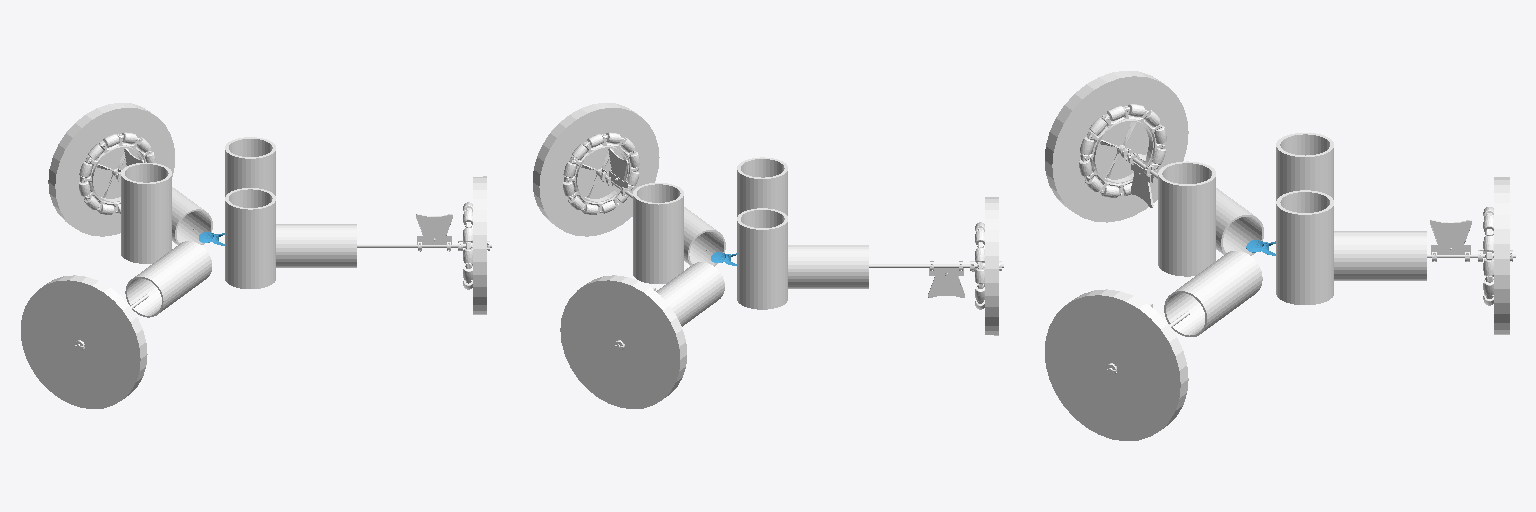
The robot description file, URDF, robot "underwater":
<?xml version="1.0"?>
<robot name="underwater"> 

    <!-- * * * Color Definitions * * * -->

    <material name="white">
        <color rgba="1 1 1 1"/>
    </material>

    <material name="green2">
        <color rgba="0.8 0.9 0.8 0.9"/>
    </material> 

    <material name="red">
        <color rgba="0.8 0 0 1"/>
    </material>

    <material name="gray">
        <color rgba="0.5 0.5 0.5 0.9"/>
    </material>

    <material name="transparent">
        <color rgba="1 1 1 0.4"/>
    </material>

    <material name="full_transparent">
        <color rgba="1 1 1 0"/>
    </material>

    <!-- * * * Link Definitions * * * -->

    <!-- mesh files -->
    <link name="base_link">
        <inertial>
            <origin xyz="0 0 0" rpy="0 0 0"/>
            <mass value="0.607" />
            <inertia ixx="0.0002835" ixy="0.0" ixz="0.0" iyy="0.0002835" iyz="0.0" izz="0.000324"/>
        </inertial>

        <collision>
            <origin xyz="0 0 0" rpy="0 0 0"/>
            <geometry>
                <cylinder radius="0.6" length="0.09"/>
            </geometry>
        </collision>

        <visual>
            <origin rpy="0 0 0" xyz="0 0 -0.2"/>
            <geometry>
                <mesh filename="package://underwater_sim/models/meshes/MainBody.dae" scale="0.0025 0.0025 0.0025"/>
            </geometry>
            <material name="white"/>
        </visual>
    </link> 

    <link name="center_link">
        <inertial>
            <origin xyz="0 0 0" rpy="0 0 0"/>
            <mass value="0.210" />
            <inertia ixx="0.0002835" ixy="0.0" ixz="0.0" iyy="0.0002835" iyz="0.0" izz="0.000324"/>
        </inertial>
        <visual>
            <origin rpy="0 0 0" xyz="-0.076 -0.080 -0.035"/>
            <geometry>
                <mesh filename="package://underwater_sim/models/meshes/CentralPropeller.dae" scale="0.0025 0.0025 0.0025"/>
            </geometry>
            <material name="black"/>
        </visual>
    </link> 


    <link name="shaft1_link">
        <inertial>
            <origin xyz="0 0 0" rpy="0 0 0"/>
            <mass value="0.18" />
            <inertia ixx="0.0002835" ixy="0.0" ixz="0.0" iyy="0.0002835" iyz="0.0" izz="0.000324"/>
        </inertial>
        <collision>
            <origin rpy="0 0 1.5078" xyz="0 .3464 .0"/>
            <geometry>
                <cylinder radius="0.02" length="0.4"/>
            </geometry>
        </collision>
        <visual>
            <origin rpy="0 0 3.1415" xyz="0 0 -0.085"/>
            <geometry>
                <mesh filename="package://underwater_sim/models/meshes/Shaft.dae" scale="0.0025 0.0025 0.0025"/>
            </geometry>
            <material name="white"/>
        </visual>
    </link> 

    <link name="shaft2_link">
        <inertial>
            <origin xyz="0 0 0" rpy="0 0 0"/>
            <mass value="0.18" />
            <inertia ixx="0.0002835" ixy="0.0" ixz="0.0" iyy="0.0002835" iyz="0.0" izz="0.000324"/>
        </inertial>
        <collision>
            <origin rpy="1.5708 0 0" xyz="0 .3464 0"/>
            <geometry>
                <cylinder radius="0.02" length="0.4"/>
            </geometry>
        </collision>

        <visual>
            <origin rpy="3.1415 0 0" xyz="0 0 0.085"/>
            <geometry>
                <mesh filename="package://underwater_sim/models/meshes/Shaft.dae" scale="0.0025 0.0025 0.0025"/>
            </geometry>
            <material name="white"/>
        </visual>
    </link>  

    <link name="shaft3_link">
        <inertial>
            <origin xyz="3.1415 0 0" rpy="0 0 0"/>
            <mass value="0.18" />
            <inertia ixx="0.0002835" ixy="0.0" ixz="0.0" iyy="0.0002835" iyz="0.0" izz="0.000324"/>
        </inertial>

        <collision>
            <origin rpy="0 0 0" xyz="0 .3464 .0"/>
            <geometry>
                <cylinder radius="0.02" length="0.4"/>
            </geometry>
        </collision>

        <visual>
            <origin rpy="0 0 3.1415" xyz="0 0 -0.085"/>
            <geometry>
                <mesh filename="package://underwater_sim/models/meshes/Shaft.dae" scale="0.0025 0.0025 0.0025"/>
            </geometry>
            <material name="white"/>
        </visual>
    </link> 

    <link name="cylinder1_link">
        <inertial>
            <origin xyz="3.1415 0 0" rpy="0 0 0"/>
            <mass value="0.18" />
            <inertia ixx="0.0002835" ixy="0.0" ixz="0.0" iyy="0.0002835" iyz="0.0" izz="0.000324"/>
        </inertial>

        <collision>
            <origin rpy="0 0 0" xyz="0 .3464 .0"/>
            <geometry>
                <cylinder radius="0.02" length="0.4"/>
            </geometry>
        </collision>

        <visual>
            <origin rpy="0 0 3.1415" xyz="0.26 .15 0.01"/>
            <geometry>
                <mesh filename="package://underwater_sim/models/meshes/Cylinder.dae" scale="0.0025 0.0025 0.0025"/>
            </geometry>
            <material name="transparent"/>
        </visual>
    </link> 

    <link name="cylinder2_link">
        <inertial>
            <origin xyz="3.1415 0 0" rpy="0 0 0"/>
            <mass value="0.18" />
            <inertia ixx="0.0002835" ixy="0.0" ixz="0.0" iyy="0.0002835" iyz="0.0" izz="0.000324"/>
        </inertial>

        <collision>
            <origin rpy="0 0 0" xyz="0 .3464 .0"/>
            <geometry>
                <cylinder radius="0.02" length="0.4"/>
            </geometry>
        </collision>

        <visual>
            <origin rpy="0 0 3.1415" xyz="-0.26 .15 0.01"/>
            <geometry>
                <mesh filename="package://underwater_sim/models/meshes/Cylinder.dae" scale="0.0025 0.0025 0.0025"/>
            </geometry>
            <material name="transparent"/>
        </visual>
    </link>

    <link name="cylinder3_link">
        <inertial>
            <origin xyz="3.1415 0 0" rpy="0 0 0"/>
            <mass value="0.18" />
            <inertia ixx="0.0002835" ixy="0.0" ixz="0.0" iyy="0.0002835" iyz="0.0" izz="0.000324"/>
        </inertial>

        <collision>
            <origin rpy="0 0 0" xyz="0 .3464 .0"/>
            <geometry>
                <cylinder radius="0.02" length="0.4"/>
            </geometry>
        </collision>

        <visual>
            <origin rpy="0 0 3.1415" xyz="0 -0.3 0.01"/>
            <geometry>
                <mesh filename="package://underwater_sim/models/meshes/Cylinder.dae" scale="0.0025 0.0025 0.0025"/>
            </geometry>
            <material name="transparent"/>
        </visual>
    </link> 

    <link name="motorcylinder1_link">
        <inertial>
            <origin xyz="3.1415 0 0" rpy="0 0 0"/>
            <mass value="0.18" />
            <inertia ixx="0.0002835" ixy="0.0" ixz="0.0" iyy="0.0002835" iyz="0.0" izz="0.000324"/>
        </inertial>

        <collision>
            <origin rpy="0 0 0" xyz="0 .3464 .0"/>
            <geometry>
                <cylinder radius="0.02" length="0.4"/>
            </geometry>
        </collision>

        <visual>
            <origin rpy="0 0 3.1415" xyz="0 0.19 0.045"/>
            <geometry>
                <mesh filename="package://underwater_sim/models/meshes/TubeMotor.dae" scale="0.0025 0.0025 0.0025"/>
            </geometry>
            <material name="transparent"/>
        </visual>
    </link> 

    <link name="motorcylinder2_link">
        <inertial>
            <origin xyz="3.1415 0 0" rpy="0 0 0"/>
            <mass value="0.18" />
            <inertia ixx="0.0002835" ixy="0.0" ixz="0.0" iyy="0.0002835" iyz="0.0" izz="0.000324"/>
        </inertial>

        <collision>
            <origin rpy="0 0 0" xyz="0 .3464 .0"/>
            <geometry>
                <cylinder radius="0.02" length="0.4"/>
            </geometry>
        </collision>

        <visual>
            <origin rpy="0 0 1.0471975512" xyz="0.16 -0.095 0.045"/>
            <geometry>
                <mesh filename="package://underwater_sim/models/meshes/TubeMotor.dae" scale="0.0025 0.0025 0.0025"/>
            </geometry>
            <material name="transparent"/>
        </visual>
    </link> 

    <link name="motorcylinder3_link">
        <inertial>
            <origin xyz="3.1415 0 0" rpy="0 0 0"/>
            <mass value="0.18" />
            <inertia ixx="0.0002835" ixy="0.0" ixz="0.0" iyy="0.0002835" iyz="0.0" izz="0.000324"/>
        </inertial>

        <collision>
            <origin rpy="0 0 0" xyz="0 .3464 .0"/>
            <geometry>
                <cylinder radius="0.02" length="0.4"/>
            </geometry>
        </collision>

        <visual>
            <origin rpy="0 0 2.094395" xyz="-0.53 -0.3 0.045"/>
            <geometry>
                <mesh filename="package://underwater_sim/models/meshes/TubeMotor.dae" scale="0.0025 0.0025 0.0025"/>
            </geometry>
            <material name="transparent"/>
        </visual>
    </link> 

    <!-- naive geometry-->
    <!-- 
    <link name="base_link">
        <inertial>
            <origin xyz="0 0 0" rpy="0 0 0"/>
            <mass value="0.607" />
            <inertia ixx="0.0002835" ixy="0.0" ixz="0.0" iyy="0.0002835" iyz="0.0" izz="0.000324"/>
        </inertial>

        <collision>
            <origin xyz="0 0 0" rpy="0 0 0"/>
            <geometry>
                <cylinder radius="0.44056" length="0.006"/>
            </geometry>
        </collision>

        <visual>
            <origin rpy="0 0 0" xyz="0 0 0"/>
            <geometry>
                <cylinder radius="0.44056" length="0.006"/>
            </geometry>
            <material name="white"/>
        </visual>
    </link> 

    <link name="center_link">
        <inertial>
            <origin xyz="0 0 0" rpy="0 0 0"/>
            <mass value="0.210" />
            <inertia ixx="0.0002835" ixy="0.0" ixz="0.0" iyy="0.0002835" iyz="0.0" izz="0.000324"/>
        </inertial>

        <visual>
            <origin xyz="0 0 0" rpy="0 0 0"/>
            <geometry>
                <cylinder radius="0.03" length="0.06"/>
            </geometry>
            <material name="black"/>
        </visual>
    </link> 

    <link name="shaft1_link">
        <inertial>
            <origin rpy="0 0 0" xyz="0 .3464 .0"/>
            <mass value="0.18" />
            <inertia ixx="0.0002835" ixy="0.0" ixz="0.0" iyy="0.0002835" iyz="0.0" izz="0.000324"/>
        </inertial>

        <collision>
            <origin rpy="1.5708 0 0" xyz="0 .3464 .0"/>
            <geometry>
                <cylinder radius="0.05" length="0.4"/>
            </geometry>
        </collision>

        <visual>
            <origin rpy="1.5708 0 0" xyz="0 .3464 .0"/>
            <geometry>
                <cylinder radius="0.05" length="0.4"/>
            </geometry>
            <material name="white"/>
        </visual>
    </link> 

    <link name="shaft2_link">
        <inertial>
            <origin xyz="0 0 0" rpy="0 0 0"/>
            <mass value="0.18" />
            <inertia ixx="0.0002835" ixy="0.0" ixz="0.0" iyy="0.0002835" iyz="0.0" izz="0.000324"/>
        </inertial>

        <collision>
            <origin rpy="1.5708 0 0" xyz="0 .3464 0"/>
            <geometry>
                <cylinder radius="0.05" length="0.4"/>
            </geometry>
        </collision>

        <visual>
            <origin rpy="1.5708 0 0" xyz="0 .3464 0"/>
            <geometry>
                <cylinder radius="0.05" length="0.4"/>
            </geometry>
            <material name="white"/>
        </visual>
    </link>  


    <link name="shaft3_link">
        <inertial>
            <origin rpy="0 0 1.5078" xyz="0 .3464 .0"/>
            <mass value="0.18" />
            <inertia ixx="0.0002835" ixy="0.0" ixz="0.0" iyy="0.0002835" iyz="0.0" izz="0.000324"/>
        </inertial>

        <collision>
            <origin rpy="1.5078 0 0" xyz="0 .3464 .0"/>
            <geometry>
                <cylinder radius="0.02" length="0.4"/>
            </geometry>
        </collision>

        <visual>
            <origin rpy="1.5078 0 0" xyz="0 .3464 .0"/>
            <geometry>
                <cylinder radius="0.05" length="0.4"/>
            </geometry>
            <material name="white"/>
        </visual>
    </link> 
    -->

    <link name="wheel1_link">
        <inertial>
            <origin xyz="0 0 0" rpy="0 0 0"/>
            <mass value="0.361" />
            <inertia ixx="0.0002835" ixy="0.0" ixz="0.0" iyy="0.0002835" iyz="0.0" izz="0.000324"/>
        </inertial>
        <collision>
            <origin rpy="1.5708 0 0" xyz="0 .54 0"/>
            <geometry>
                <cylinder radius="0.3" length="0.06"/>
            </geometry>
        </collision>
        <visual>
            <origin rpy="1.5708 0 0" xyz="0 .54 0"/>
            <geometry>
                <cylinder radius="0.3" length="0.06"/>
            </geometry>
            <material name="full_transparent"/>
        </visual>
    </link>

    <link name="wheel2_link">
        <inertial>
            <origin xyz="0 0 0" rpy="0 0 0"/>
            <mass value="0.361" />
            <inertia ixx="0.0002835" ixy="0.0" ixz="0.0" iyy="0.0002835" iyz="0.0" izz="0.000324"/>
        </inertial>
        <collision>
            <origin rpy="1.5708 0 0" xyz="0 .54 0"/>
            <geometry>
                <cylinder radius="0.3" length="0.06"/>
            </geometry>
        </collision>
        <visual>
            <origin rpy="1.5708 0 0" xyz="0 .54 0"/>
            <geometry>
                <cylinder radius="0.3" length="0.06"/>
            </geometry>
            <material name="full_transparent"/>
        </visual>
    </link>


    <link name="wheel3_link">
        <inertial>
            <origin xyz="0 0 0" rpy="0 0 0"/>
            <mass value="0.361" />
            <inertia ixx="0.0002835" ixy="0.0" ixz="0.0" iyy="0.0002835" iyz="0.0" izz="0.000324"/>
        </inertial>
        <collision>
            <origin rpy="1.5708 0 0" xyz="0 .54 0"/>
            <geometry>
                <cylinder radius="0.3" length="0.06"/>
            </geometry>
        </collision>
        <visual>
            <origin rpy="1.5708 0 0" xyz="0 .54 0"/>
            <geometry>
                <cylinder radius="0.3" length="0.06"/>
            </geometry>
            <material name="full_transparent"/>
        </visual>
    </link> 
    
    <!-- * * * Joint Definitions * * * -->

    <joint name="center_motor" type="continuous">
        <parent link="base_link"/>
        <child link="center_link"/>
        <origin xyz="0.000 0 0.0005" rpy="0 0 0"/>
        <limit lower="-1" upper="1" effort="0.1" velocity="0.05"/>
        <axis xyz="0 0 1"/>
    </joint>

    <joint name="motor1" type="continuous">
        <parent link="base_link"/>
        <child link="shaft1_link"/>
        <origin xyz="0 0.36 0.045" rpy="0 0 0"/>
        <limit lower="-1" upper="1" effort="0.1" velocity="0.05"/>
        <axis xyz="0 1.5708 0"/>
    </joint>  

    <joint name="motor2" type="continuous">
        <parent link="base_link"/>
        <child link="shaft2_link"/>
        <origin xyz="-0.52 -0.3 0.045" rpy="0 0 2.094"/>
        <limit lower="-1" upper="1" effort="0.1" velocity="0.05"/>
        <axis xyz="0 1 0 "/>
    </joint> 
  
    <joint name="motor3" type="continuous">
        <parent link="base_link"/>
        <child link="shaft3_link"/>
        <origin xyz="0.52 -0.3 0.045" rpy="0 0 -2.094"/>
        <limit lower="-1" upper="1" effort="0.1" velocity="0.05"/>
        <axis xyz="0 1 0"/>
    </joint>  

    <joint name="wheel1_joint" type="fixed">
        <parent link="shaft1_link"/>
        <child link="wheel1_link"/>
        <origin xyz="0 0 0" rpy="0 0 0"/>
        <limit lower="-1" upper="1" effort="0.1" velocity="0.05"/>
        <axis xyz="0 1 0"/>
   </joint>

         
    <joint name="wheel2_joint" type="fixed">
        <parent link="shaft2_link"/>
        <child link="wheel2_link"/>
        <origin xyz="0 0 0" rpy="0 0 0"/>
        <limit lower="-1" upper="1" effort="0.1" velocity="0.05"/>
        <axis xyz="0 1 0"/>
   </joint>

    <joint name="wheel3_joint" type="fixed">
        <parent link="shaft3_link"/>
        <child link="wheel3_link"/>
        <origin xyz="0 0 0" rpy="0 0 0"/>
        <limit lower="-1" upper="1" effort="0.1" velocity="0.05"/>
        <axis xyz="0 1 0"/>
    </joint>

    <joint name="cylinder1_joint" type="fixed">
        <parent link="base_link"/>
        <child link="cylinder1_link"/>
        <origin xyz="0 0 0" rpy="0 0 0"/>
        <limit lower="-1" upper="1" effort="0.1" velocity="0.05"/>
        <axis xyz="0 1 0"/>
    </joint>

    <joint name="cylinder2_joint" type="fixed">
        <parent link="base_link"/>
        <child link="cylinder2_link"/>
        <origin xyz="0 0 0" rpy="0 0 0"/>
        <limit lower="-1" upper="1" effort="0.1" velocity="0.05"/>
        <axis xyz="0 1 0"/>
    </joint>

    <joint name="cylinder3_joint" type="fixed">
        <parent link="base_link"/>
        <child link="cylinder3_link"/>
        <origin xyz="0 0 0" rpy="0 0 0"/>
        <limit lower="-1" upper="1" effort="0.1" velocity="0.05"/>
        <axis xyz="0 1 0"/>
    </joint>

    <joint name="motorcylinder1_joint" type="fixed">
        <parent link="base_link"/>
        <child link="motorcylinder1_link"/>
        <origin xyz="0 0 0" rpy="0 0 0"/>
        <limit lower="-1" upper="1" effort="0.1" velocity="0.05"/>
        <axis xyz="0 1 0"/>
    </joint>

    <joint name="motorcylinder2_joint" type="fixed">
        <parent link="base_link"/>
        <child link="motorcylinder2_link"/>
        <origin xyz="0 0 0" rpy="0 0 0"/>
        <limit lower="-1" upper="1" effort="0.1" velocity="0.05"/>
        <axis xyz="0 1 0"/>
    </joint>

    <joint name="motorcylinder3_joint" type="fixed">
        <parent link="base_link"/>
        <child link="motorcylinder3_link"/>
        <origin xyz="0 0 0" rpy="0 0 0"/>
        <limit lower="-1" upper="1" effort="0.1" velocity="0.05"/>
        <axis xyz="0 1 0"/>
    </joint>

</robot> 

--- What the picture shows (computed from the rendered views, not written in the file) ---
3 views of the same robot in one strip: view 1: azimuth 30°, elevation 25°; view 2: azimuth 150°, elevation 25°; view 3: azimuth 270°, elevation 25° (orthographic).
Robot: underwater — 14 links, 13 joints (4 continuous, 9 fixed); root link base_link; default pose: every joint at zero.
Visible links, largest first — view 1: wheel2_link, wheel1_link, cylinder3_link, cylinder2_link, motorcylinder3_link, motorcylinder2_link, cylinder1_link, shaft1_link, shaft3_link, wheel3_link, motorcylinder1_link; view 2: wheel1_link, wheel3_link, cylinder2_link, cylinder1_link, shaft3_link, motorcylinder3_link, cylinder3_link, motorcylinder1_link, shaft2_link, wheel2_link, motorcylinder2_link; view 3: wheel3_link, wheel2_link, cylinder1_link, cylinder3_link, motorcylinder2_link, shaft2_link, motorcylinder1_link, cylinder2_link, shaft1_link, wheel1_link, motorcylinder3_link.
Boxes of the visible links, x1=… form: wheel2_link: x1=21, y1=275, x2=147, y2=408; wheel1_link: x1=48, y1=103, x2=174, y2=236; cylinder3_link: x1=225, y1=188, x2=275, y2=288; cylinder2_link: x1=121, y1=162, x2=171, y2=263; motorcylinder3_link: x1=125, y1=241, x2=211, y2=317; motorcylinder2_link: x1=276, y1=224, x2=356, y2=267; cylinder1_link: x1=225, y1=137, x2=275, y2=196; shaft1_link: x1=79, y1=132, x2=155, y2=214; shaft3_link: x1=357, y1=202, x2=491, y2=289; wheel3_link: x1=473, y1=176, x2=486, y2=314; motorcylinder1_link: x1=172, y1=187, x2=212, y2=244; wheel1_link: x1=560, y1=275, x2=686, y2=408; wheel3_link: x1=533, y1=103, x2=659, y2=236; cylinder2_link: x1=737, y1=208, x2=787, y2=309; cylinder1_link: x1=633, y1=183, x2=683, y2=283; shaft3_link: x1=563, y1=132, x2=639, y2=214; motorcylinder3_link: x1=788, y1=245, x2=868, y2=288; cylinder3_link: x1=737, y1=157, x2=787, y2=216; motorcylinder1_link: x1=656, y1=262, x2=724, y2=326; shaft2_link: x1=869, y1=222, x2=1003, y2=309; wheel2_link: x1=985, y1=197, x2=998, y2=335; motorcylinder2_link: x1=684, y1=207, x2=725, y2=266; wheel3_link: x1=1045, y1=289, x2=1188, y2=440; wheel2_link: x1=1045, y1=71, x2=1188, y2=222; cylinder1_link: x1=1276, y1=190, x2=1333, y2=304; cylinder3_link: x1=1158, y1=161, x2=1215, y2=276; motorcylinder2_link: x1=1164, y1=251, x2=1262, y2=336; shaft2_link: x1=1079, y1=104, x2=1166, y2=207; motorcylinder1_link: x1=1334, y1=231, x2=1426, y2=280; cylinder2_link: x1=1276, y1=133, x2=1333, y2=200; shaft1_link: x1=1427, y1=207, x2=1515, y2=305; wheel1_link: x1=1494, y1=177, x2=1509, y2=334; motorcylinder3_link: x1=1216, y1=188, x2=1263, y2=255.
Size in the robot's own frame: 2.33 by 1.8 by 0.646 metres.
10 mesh visuals loaded from 5 distinct referenced files (4 Collada DAE); not drawn: 1 (reference not matched to a file when rendering).